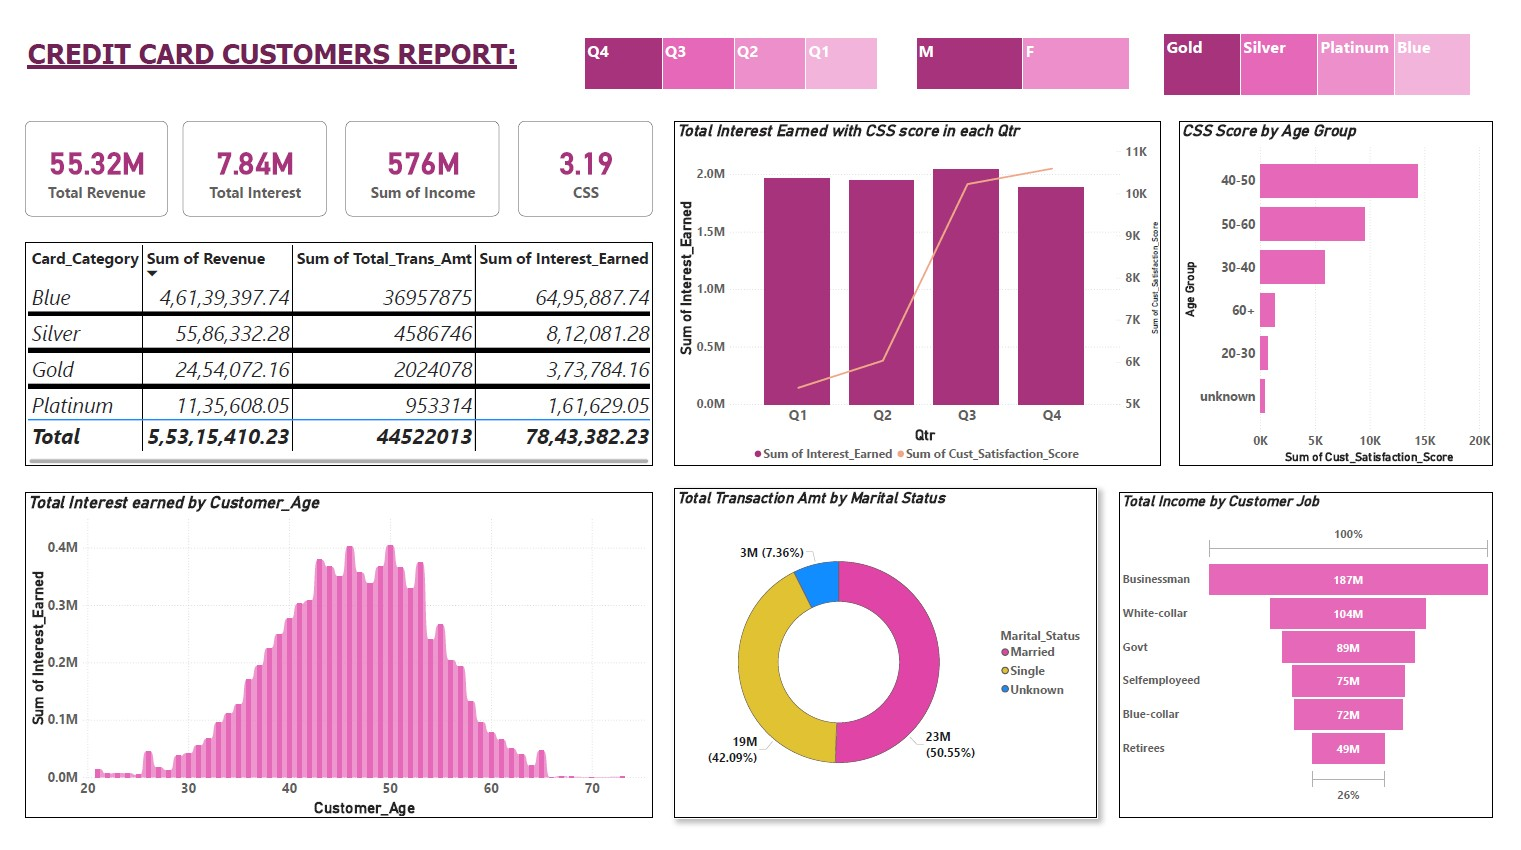

This screenshot's page, from the dashboard's own definition file:
{"tool":"powerbi","page":{"name":"Page 2","canvas":[2700,1500],"ordinal":1},"visuals":[{"type":"textbox","box":[30.4,43.9,917.6,101.2],"z":0},{"type":"card","fields":{"Values":["Sum(ccdb cc_detail.Revenue)"]},"box":[30.4,199,256.4,172],"z":1000},{"type":"card","fields":{"Values":["Sum(ccdb cust_detail.Income)"]},"box":[607.2,199,276.6,172],"z":2000},{"type":"card","fields":{"Values":["Avg(ccdb cust_detail.Cust_Satisfaction_Score)"]},"box":[917.6,199,242.9,172],"z":3000},{"type":"card","fields":{"Values":["Sum(ccdb cc_detail.Interest_Earned)"]},"box":[313.7,199,259.8,172],"z":4000},{"type":"tableEx","fields":{"Values":["ccdb cc_detail.Card_Category","Sum(ccdb cc_detail.Revenue)","Sum(ccdb cc_detail.Total_Trans_Amt)","Sum(ccdb cc_detail.Interest_Earned)"]},"box":[30.4,418.3,1130.1,401.4],"z":5000},{"type":"treemap","title":"Quarters","fields":{"Group":["ccdb cc_detail.Qtr"],"Values":["Min(ccdb cc_detail.Client_Num)"]},"box":[1032.3,43.9,536.4,104.6],"z":6000},{"type":"treemap","title":"Quarters","fields":{"Group":["ccdb cc_detail.Card_Category"],"Values":["Min(ccdb cc_detail.Client_Num)"]},"box":[2074.6,37.1,563.4,121.4],"z":7000},{"type":"treemap","title":"Quarters","fields":{"Group":["ccdb cust_detail.Gender"],"Values":["Min(ccdb cc_detail.Client_Num)"]},"box":[1629.3,43.9,394.7,104.6],"z":8000},{"type":"ribbonChart","title":"Total Interest earned by Customer_Age","fields":{"Category":["ccdb cust_detail.Customer_Age"],"Y":["Sum(ccdb cc_detail.Interest_Earned)"]},"box":[30.4,867,1130.1,587],"z":9000},{"type":"lineStackedColumnComboChart","title":"Total Interest Earned with CSS score in each Qtr","fields":{"Category":["ccdb cc_detail.Qtr"],"Y":["Sum(ccdb cc_detail.Interest_Earned)"],"Y2":["Sum(ccdb cust_detail.Cust_Satisfaction_Score)"]},"box":[1197.6,199,877.1,620.7],"z":10000},{"type":"funnel","title":"Total Income by Customer Job","fields":{"Category":["ccdb cust_detail.Customer_Job"],"Y":["Sum(ccdb cust_detail.Income)"]},"box":[2000.4,867,671.3,587],"z":11000},{"type":"donutChart","title":"Total Transaction Amt by Marital Status","fields":{"Category":["ccdb cust_detail.Marital_Status"],"Y":["Sum(ccdb cc_detail.Total_Trans_Amt)"]},"box":[1197.6,860.2,762.4,593.7],"z":12000},{"type":"barChart","title":"CSS Score by Age Group","fields":{"Y":["Sum(ccdb cust_detail.Cust_Satisfaction_Score)"],"Category":["ccdb cust_detail.Age Group"]},"box":[2108.4,199,563.4,620.7],"z":13000}]}

Visuals, with their boxes in screenshot pixels (x1, y1, x2, y2), scaled from the page's 2700x1500 canvas onto the 1521x850 screenshot:
textbox: [17,25,534,82]
card - Sum(ccdb cc_detail.Revenue): [17,113,162,210]
card - Sum(ccdb cust_detail.Income): [342,113,498,210]
card - Avg(ccdb cust_detail.Cust_Satisfaction_Score): [517,113,654,210]
card - Sum(ccdb cc_detail.Interest_Earned): [177,113,323,210]
tableEx - ccdb cc_detail.Card_Category x Sum(ccdb cc_detail.Revenue): [17,237,654,464]
"Quarters" treemap: [582,25,884,84]
"Quarters" treemap: [1169,21,1486,90]
"Quarters" treemap: [918,25,1140,84]
"Total Interest earned by Customer_Age" ribbonChart: [17,491,654,824]
"Total Interest Earned with CSS score in each Qtr" lineStackedColumnComboChart: [675,113,1169,464]
"Total Income by Customer Job" funnel: [1127,491,1505,824]
"Total Transaction Amt by Marital Status" donutChart: [675,487,1104,824]
"CSS Score by Age Group" barChart: [1188,113,1505,464]
